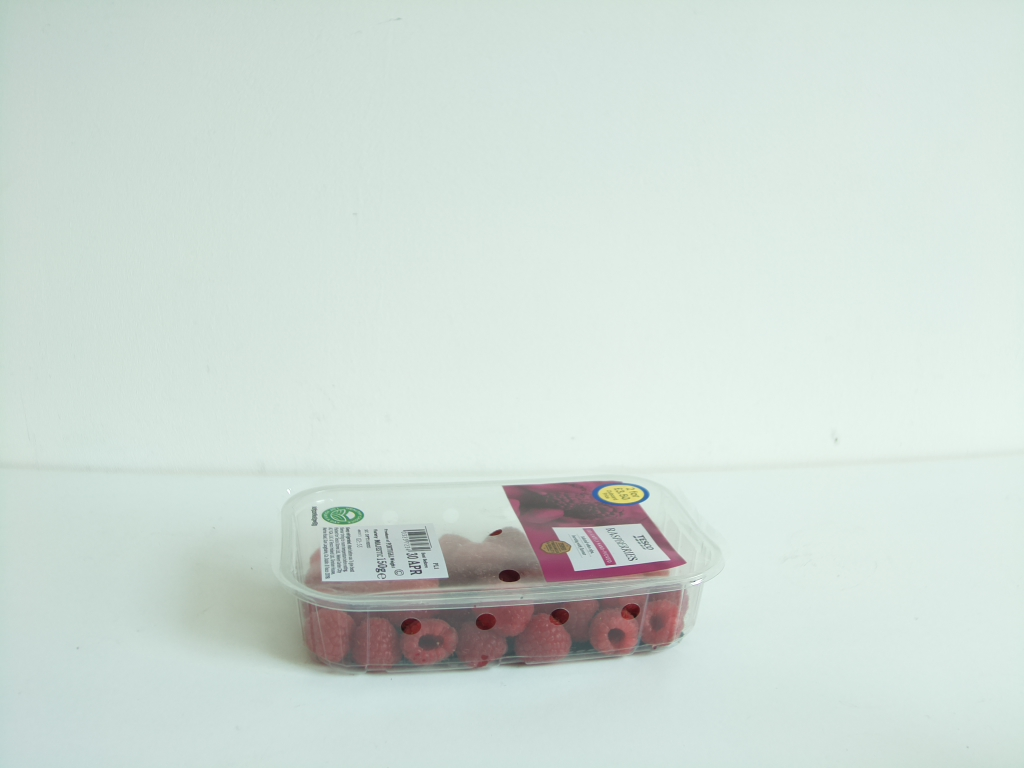soft-fruit: (275, 473, 710, 677)
